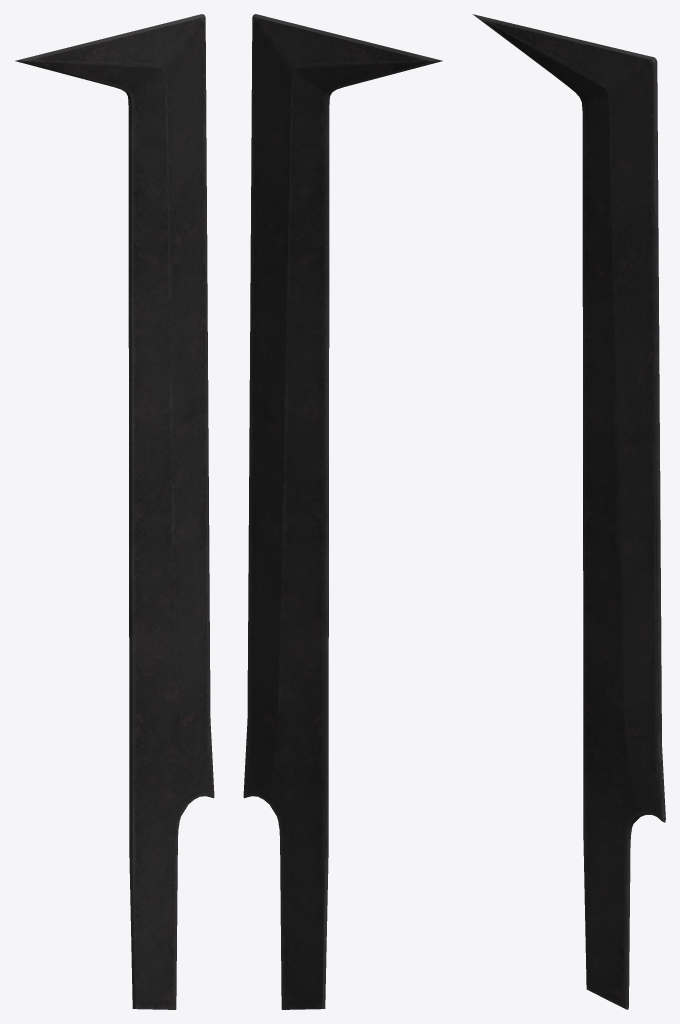
The model's file is wm_isengard_1h_sword_a01_blade.fbx.
The picture shows the model from 3 angles, left to right: view 1: azimuth 30°, elevation 25°; view 2: azimuth 150°, elevation 25°; view 3: azimuth 330°, elevation 25°; orthographic projection. The views are drawn at different scales.
Parts seen in each view (by area): view 1: wm_isengard_1h_sword_a01_blade; view 2: wm_isengard_1h_sword_a01_blade; view 3: wm_isengard_1h_sword_a01_blade.
Part boxes in pixels (x1,y1,x2,y2): wm_isengard_1h_sword_a01_blade: (15,14,214,1009); wm_isengard_1h_sword_a01_blade: (243,14,442,1009); wm_isengard_1h_sword_a01_blade: (472,14,665,1009).
Size of the model in its own units: 0.214 by 0.0184 by 1.02.
1 material, 1 textured.
